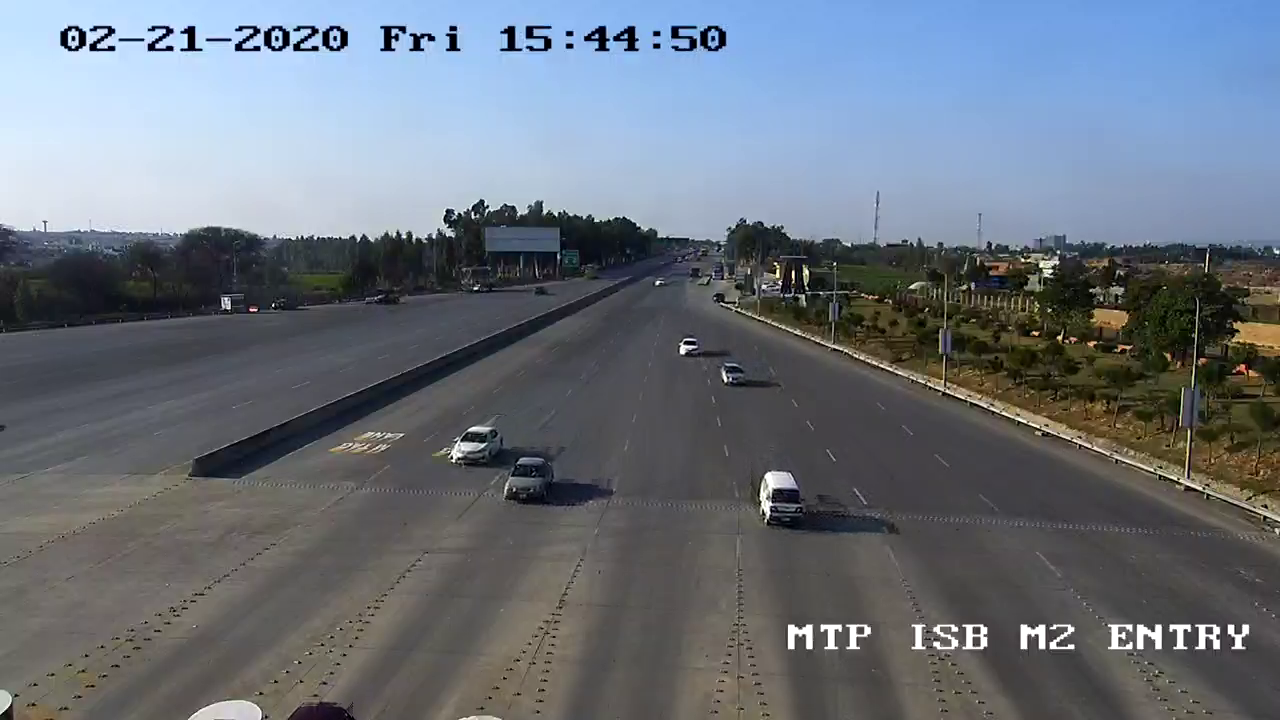f1: (492, 449, 560, 514), (746, 466, 809, 534), (448, 417, 506, 474)
